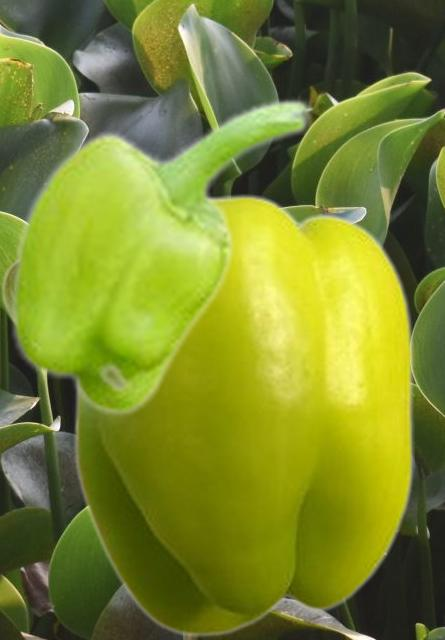bell_pepper: (71, 192, 413, 636), (8, 96, 313, 416)
